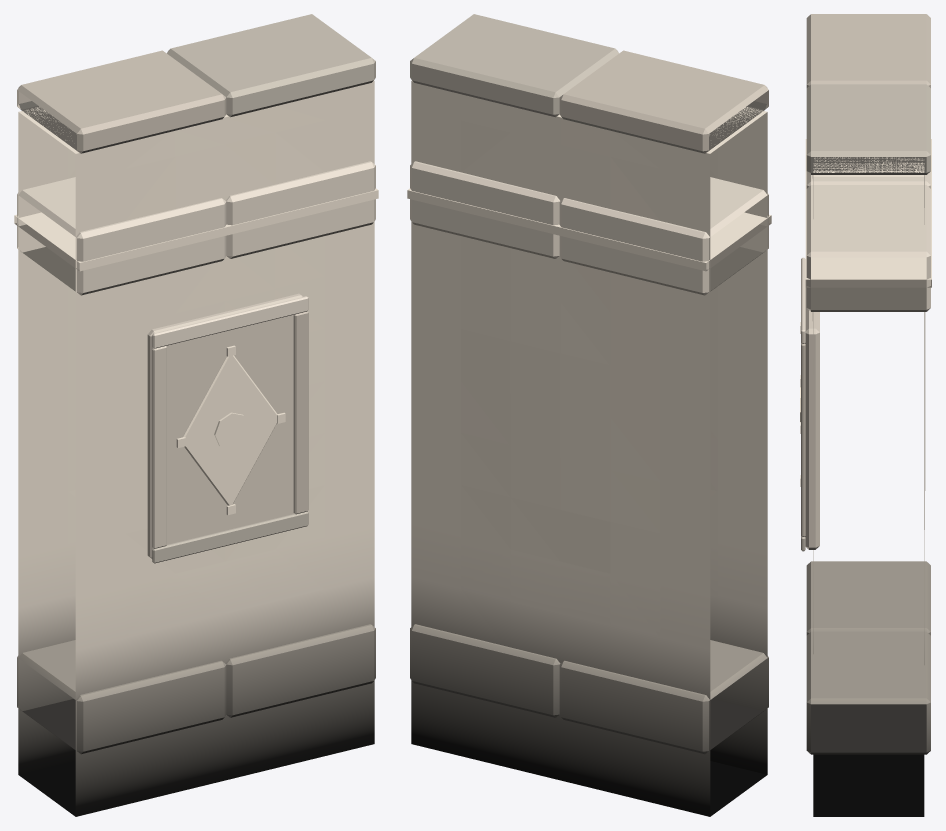
File: SM_VKI_Wall_Dwarf_Plain_150B_Full.fbx
3 views of the same model, side by side, from view 1: azimuth 30°, elevation 25°; view 2: azimuth 150°, elevation 25°; view 3: azimuth 270°, elevation 25° (orthographic). The views are drawn at different scales.
Parts seen in each view (by area): view 1: SM_VKI_Wall_Dwarf_Plain_150B_Full.001; view 2: SM_VKI_Wall_Dwarf_Plain_150B_Full.001; view 3: SM_VKI_Wall_Dwarf_Plain_150B_Full.001.
Boxes of the visible parts, box(x1,y1,x2,y2) form: SM_VKI_Wall_Dwarf_Plain_150B_Full.001: box(14, 14, 378, 816); SM_VKI_Wall_Dwarf_Plain_150B_Full.001: box(407, 14, 771, 816); SM_VKI_Wall_Dwarf_Plain_150B_Full.001: box(800, 14, 931, 816).
Size of the model in its own units: 1.5 by 3.3 by 0.594.
